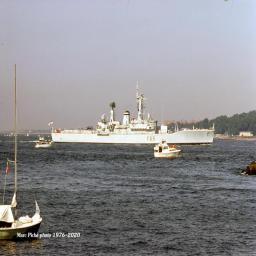Fragata: (50, 77, 216, 147)
